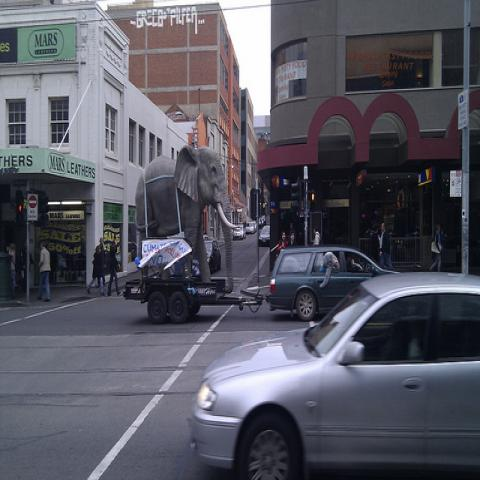car: (187, 272, 479, 471), (267, 245, 401, 322), (259, 226, 270, 245), (234, 224, 246, 240), (245, 221, 255, 235), (259, 217, 266, 229)
